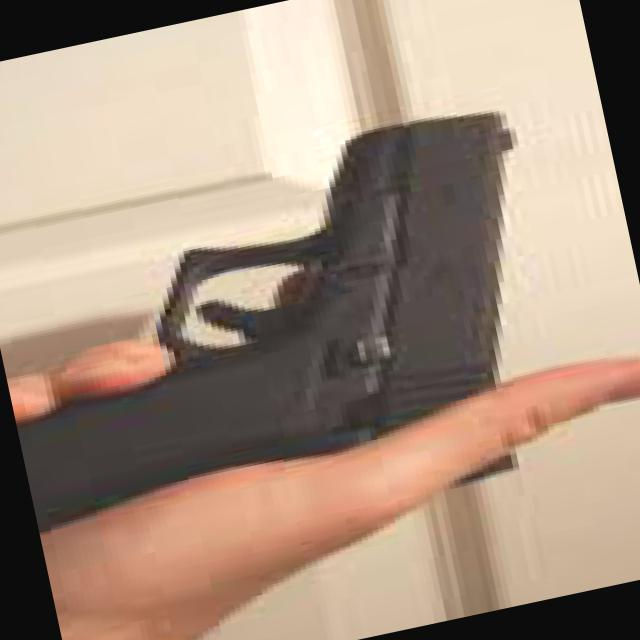handgun: (0, 89, 611, 582)
